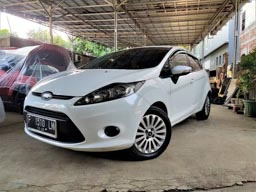plat: (26, 114, 55, 138)
